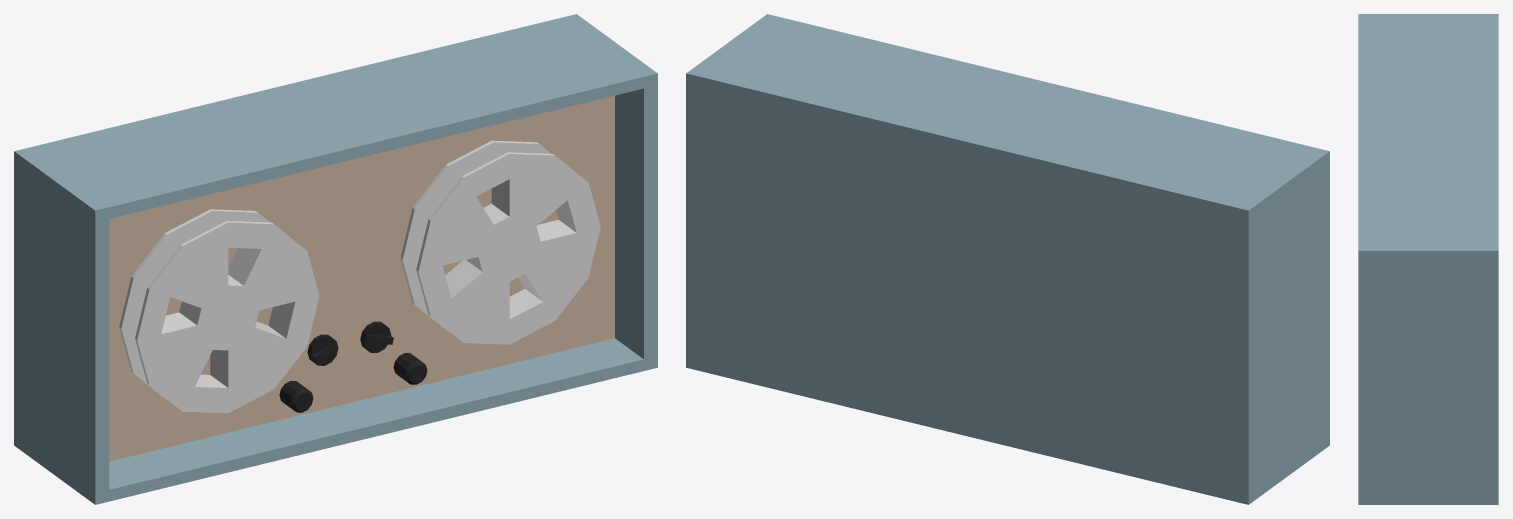
The model's file is Block0A.fbx.
3 views of the same model, side by side, from view 1: azimuth 30°, elevation 25°; view 2: azimuth 150°, elevation 25°; view 3: azimuth 270°, elevation 25° (orthographic). The views are drawn at different scales.
Visible parts, largest first — view 1: Block0; view 2: Block0; view 3: Block0.
Part boxes in pixels (x1,y1,x2,y2): Block0: (14, 14, 657, 504); Block0: (686, 14, 1329, 504); Block0: (1358, 14, 1498, 504).
Size of the model in its own units: 2 by 1 by 0.5.
